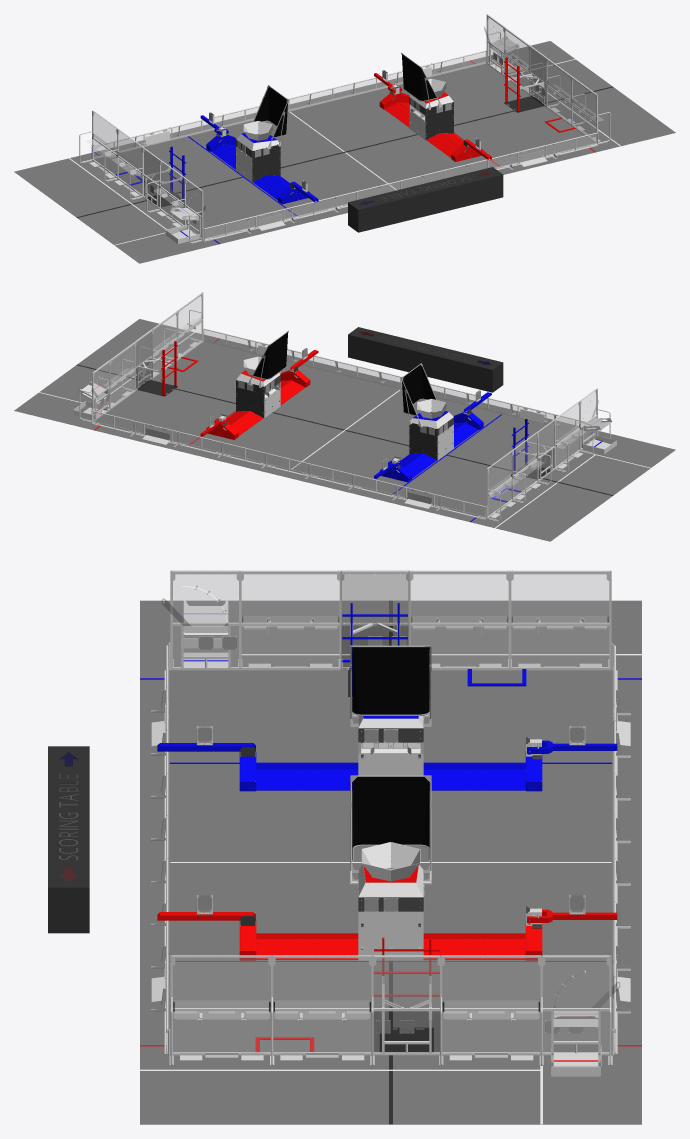
File: field.glb
The picture shows the model from 3 angles, top to bottom: view 1: azimuth 30°, elevation 25°; view 2: azimuth 150°, elevation 25°; view 3: azimuth 270°, elevation 25°; orthographic projection. The views are drawn at different scales.
Visible parts, largest first — view 1: field_29, field_17, field_41, field_20, endRed_36, endBlue_31, endBlue_0, endRed_7, field_24, field_25, field_23, field_15 (+5 smaller); view 2: field_29, field_17, field_41, field_20, endRed_36, endBlue_31, endBlue_0, endRed_7, field_24, field_25, field_23, field_15 (+5 smaller); view 3: field_29, endBlue_31, endRed_36, endBlue_0, field_20, field_23, endRed_7, field_24, field_17, field_25, endBlue_35, field_15 (+9 smaller).
Boxes of the visible parts, left/top/right/bottom form: field_29: left=14, top=41, right=675, bottom=263; field_17: left=76, top=86, right=613, bottom=232; field_41: left=94, top=52, right=596, bottom=238; field_20: left=93, top=50, right=597, bottom=241; endRed_36: left=486, top=17, right=597, bottom=143; endBlue_31: left=94, top=113, right=204, bottom=240; endBlue_0: left=79, top=110, right=203, bottom=243; endRed_7: left=486, top=14, right=610, bottom=144; field_24: left=94, top=115, right=318, bottom=243; field_25: left=374, top=57, right=595, bottom=166; field_23: left=254, top=54, right=436, bottom=137; field_15: left=132, top=53, right=557, bottom=233; field_29: left=14, top=319, right=675, bottom=541; field_17: left=76, top=327, right=613, bottom=495; field_41: left=93, top=330, right=591, bottom=516; field_20: left=92, top=328, right=591, bottom=519; endRed_36: left=92, top=295, right=203, bottom=421; endBlue_31: left=485, top=391, right=595, bottom=518; endBlue_0: left=486, top=388, right=616, bottom=521; endRed_7: left=73, top=292, right=203, bottom=422; field_24: left=374, top=392, right=595, bottom=521; field_25: left=94, top=338, right=318, bottom=444; field_23: left=253, top=332, right=435, bottom=415; field_15: left=130, top=331, right=559, bottom=511; field_29: left=140, top=600, right=641, bottom=1124; endBlue_31: left=166, top=572, right=615, bottom=669; endRed_36: left=166, top=957, right=615, bottom=1053; endBlue_0: left=168, top=570, right=613, bottom=670; field_20: left=151, top=622, right=630, bottom=1053; field_23: left=352, top=647, right=429, bottom=859; endRed_7: left=168, top=955, right=613, bottom=1076; field_24: left=140, top=603, right=641, bottom=791; field_17: left=48, top=600, right=433, bottom=1124; field_25: left=140, top=865, right=641, bottom=1052; endBlue_35: left=162, top=572, right=408, bottom=670; field_15: left=151, top=645, right=630, bottom=1013.
Bounding box in the file's own units: 22.56 × 3.06 × 10.82.
